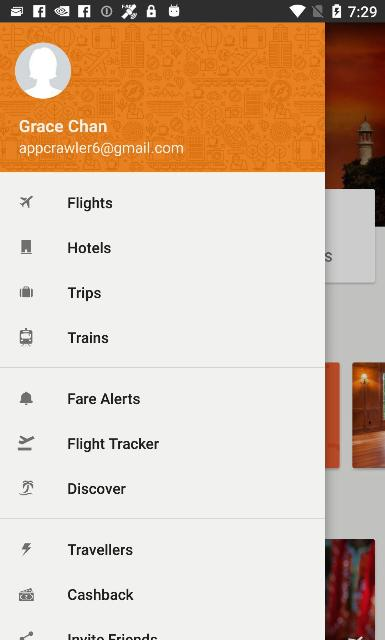Drawer: (1, 22, 326, 640)
Icon: (14, 42, 72, 100), (18, 479, 34, 495), (17, 436, 34, 450), (20, 328, 32, 347), (19, 588, 35, 600), (20, 391, 32, 405), (19, 286, 33, 298), (20, 240, 32, 254), (20, 196, 32, 208), (21, 542, 31, 556), (19, 632, 33, 640)
List: (1, 173, 326, 367), (1, 368, 326, 518), (1, 520, 326, 640)
Text: (18, 141, 184, 157), (19, 118, 107, 134), (68, 438, 160, 452), (68, 392, 140, 404), (67, 543, 133, 555), (68, 588, 134, 600), (68, 632, 158, 640), (68, 196, 112, 212), (68, 482, 126, 494), (67, 286, 101, 302), (68, 241, 112, 253), (68, 331, 108, 343)
UpperTaskBar: (0, 0, 384, 22)
